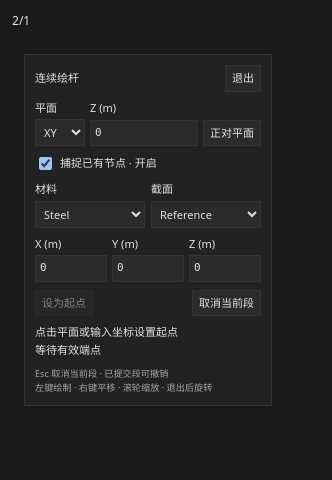
Scenario: work-plane drawing interaction › rejects zero length and invalid numbers while retaining the uncommitted segment
Replace the text in the number field named "绘杆 X 坐标" with "2" at {"x": 71, "y": 268}, box [35,255,107,282]
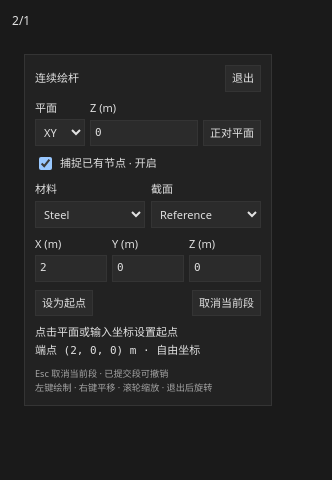
Click the button "设为起点".
click(64, 303)  # box [35,290,93,316]
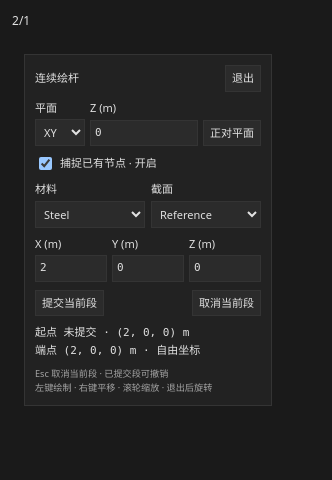
Click the button "提交当前段".
click(70, 303)  # box [35,290,104,316]
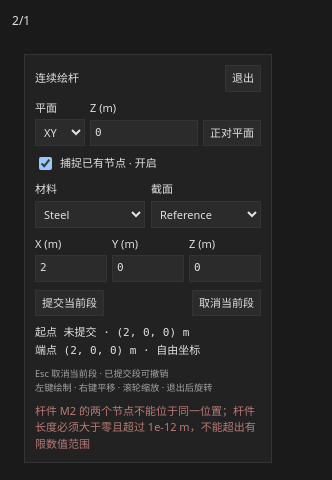
Expected: the text named "正式对象数量" reads "2/1", [12,12,30,29]
Now the message shows "同一位置", box [35,403,256,451]
Clear the number field named "绘杆 X 坐标" at {"x": 71, "y": 268}, box [35,255,107,282]
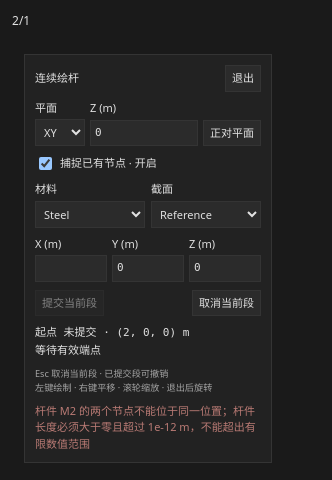
Now the button "提交当前段" is disabled, box [35,290,104,316]
Select "XZ" in the dropdown named "工作平面" at {"x": 60, "y": 132}, box [35,119,85,146]
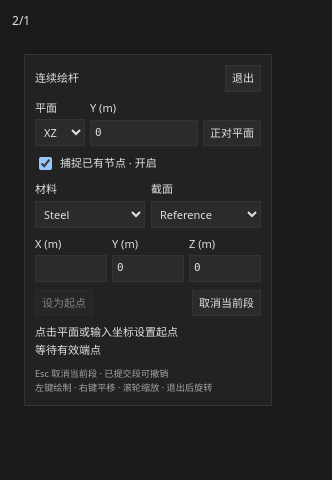
Expected: the number field named "绘杆 Y 坐标" is disabled, [112,255,184,282]
Now the element named "绘杆状态" shows "设置起点", box [35,326,178,339]
